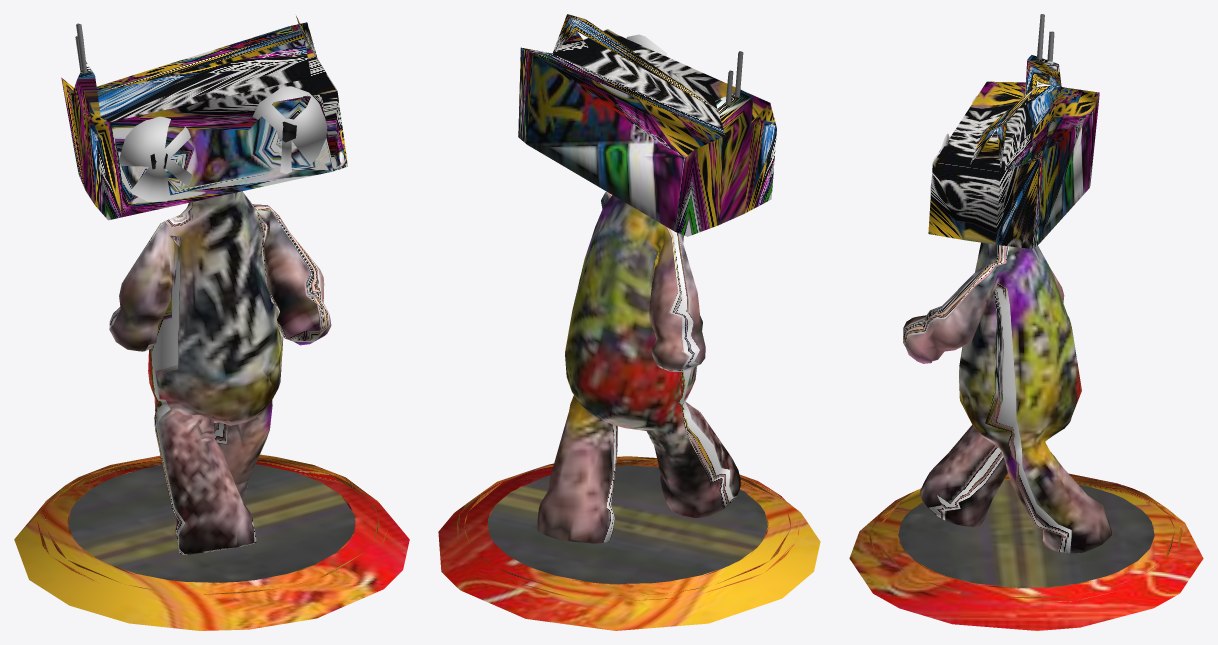
The picture shows the model from 3 angles, left to right: view 1: azimuth 30°, elevation 25°; view 2: azimuth 150°, elevation 25°; view 3: azimuth 270°, elevation 25°; orthographic projection. The views are drawn at different scales.
Size of the model in its own units: 1.44 by 2.2 by 1.45.
7 materials, 4 textured.
